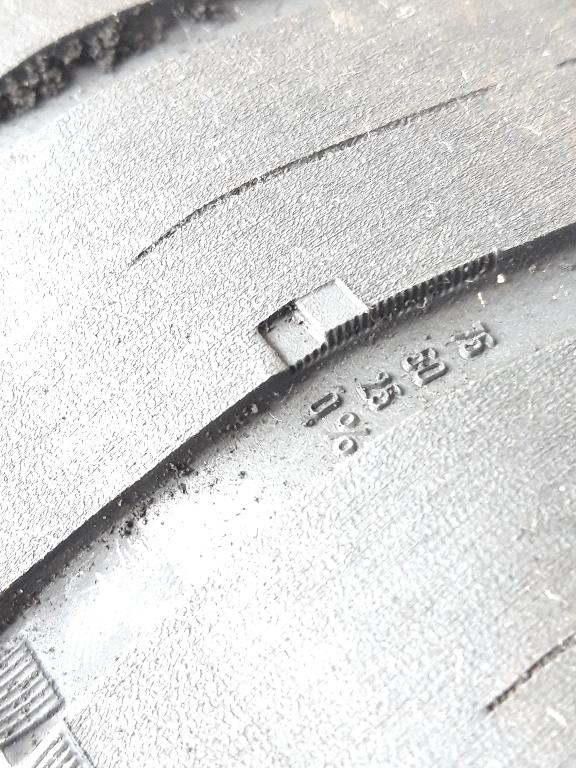temoin:25: (249, 272, 384, 385)
